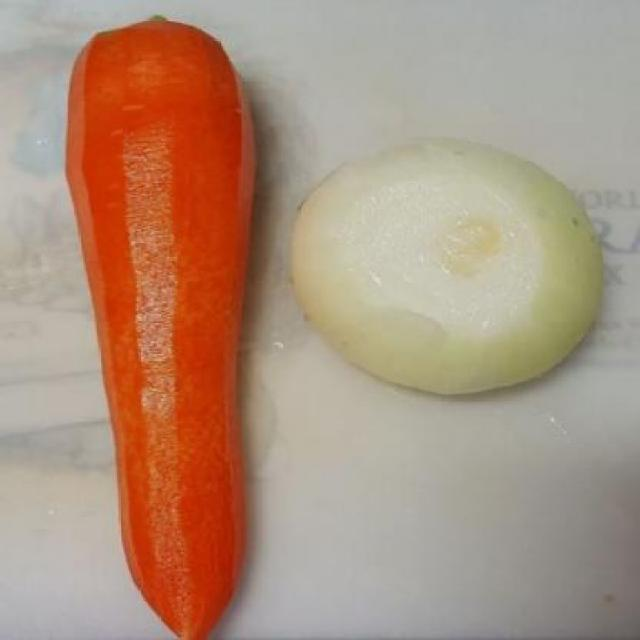carrot: (48, 11, 280, 634)
